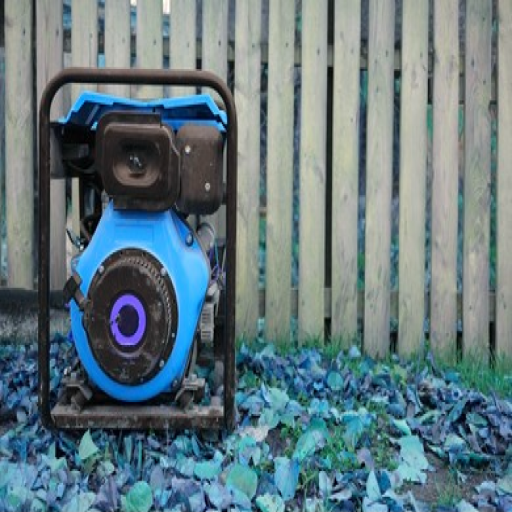portable_generator: (37, 67, 239, 432)
